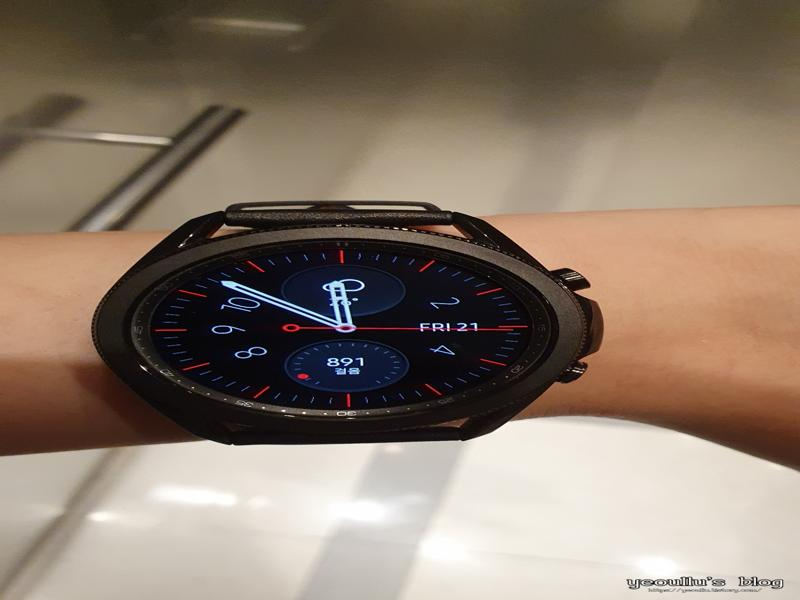watch: (91, 200, 606, 448)
